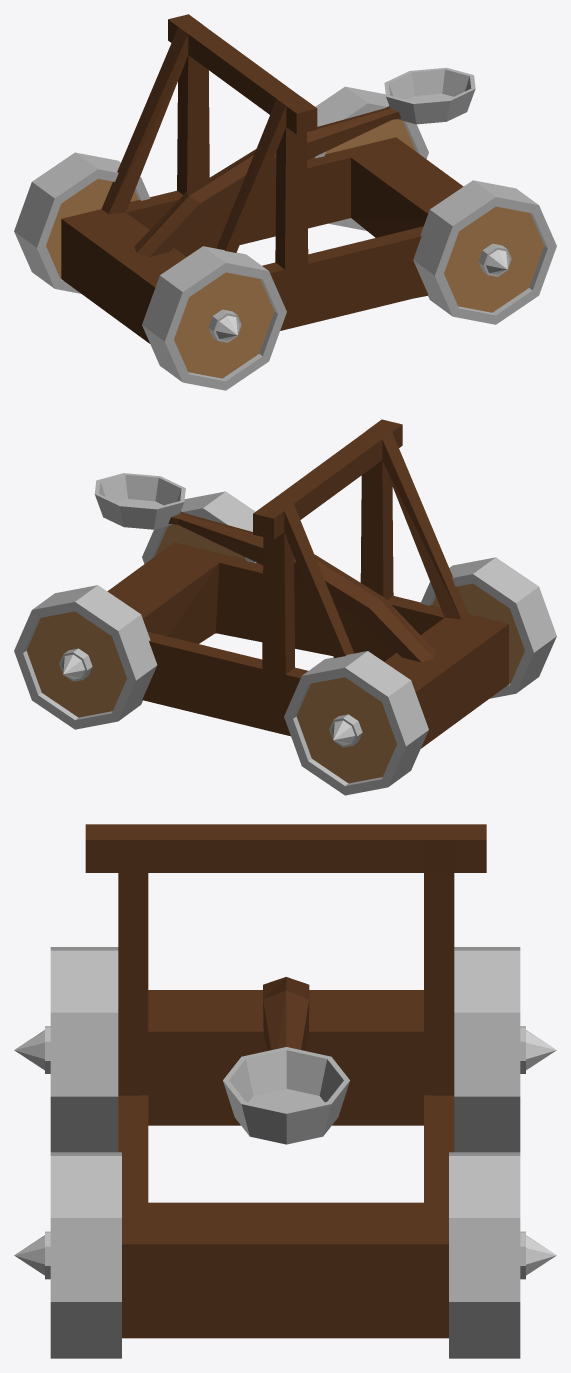
Rendered from catapult.dae.
3 renders of one model, top to bottom at view 1: azimuth 30°, elevation 25°; view 2: azimuth 150°, elevation 25°; view 3: azimuth 270°, elevation 25°, orthographic. The views are drawn at different scales.
Parts seen in each view (by area): view 1: Catapult, Wheel.001, Wheel.003, Sling, Wheel, Wheel.002; view 2: Catapult, Wheel, Wheel.002, Sling, Wheel.001, Wheel.003; view 3: Catapult, Wheel.002, Wheel.003, Wheel.001, Wheel, Sling.
Boxes of the visible parts, x1=… form: Catapult: x1=61, y1=14, x2=463, y2=343; Wheel.001: x1=142, y1=246, x2=286, y2=390; Wheel.003: x1=413, y1=180, x2=556, y2=324; Sling: x1=134, y1=67, x2=475, y2=257; Wheel: x1=14, y1=152, x2=150, y2=293; Wheel.002: x1=314, y1=86, x2=428, y2=230; Catapult: x1=107, y1=419, x2=508, y2=748; Wheel: x1=284, y1=651, x2=428, y2=795; Wheel.002: x1=14, y1=585, x2=157, y2=729; Sling: x1=94, y1=473, x2=435, y2=662; Wheel.001: x1=420, y1=557, x2=556, y2=698; Wheel.003: x1=142, y1=491, x2=256, y2=633; Catapult: x1=85, y1=824, x2=486, y2=1338; Wheel.002: x1=449, y1=1152, x2=556, y2=1358; Wheel.003: x1=14, y1=1152, x2=121, y2=1358; Wheel.001: x1=14, y1=947, x2=118, y2=1152; Wheel: x1=454, y1=947, x2=556, y2=1152; Sling: x1=223, y1=977, x2=349, y2=1144.
Size of the model in its own units: 5.13 by 3.95 by 3.11.
